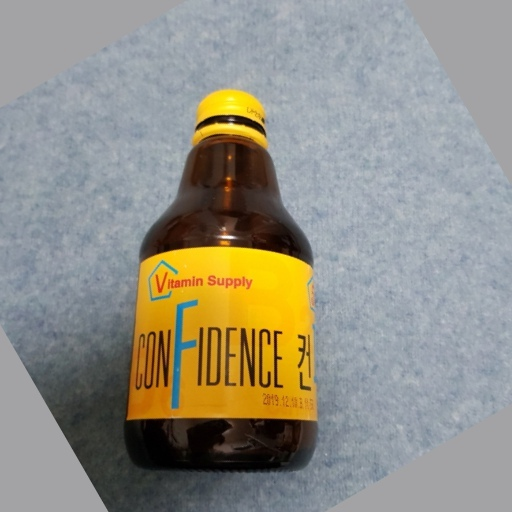Glass_3: (121, 84, 322, 475)
